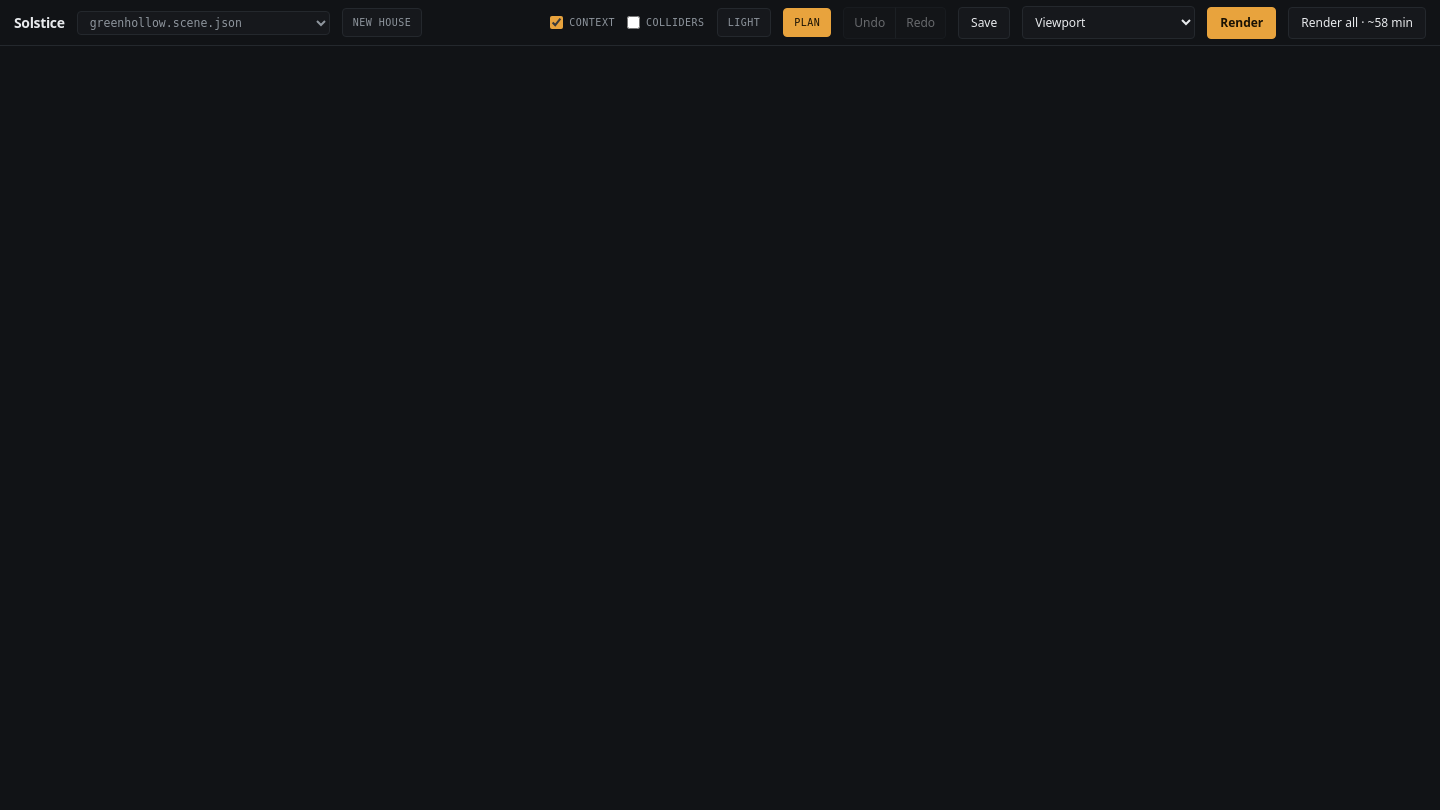
it: New house › keeps the dialog open with the reason, through the UI
The width and height of the screenshot is (1440, 810).
Click the button "New house": click(382, 22) x1=342 y1=8 x2=422 y2=37
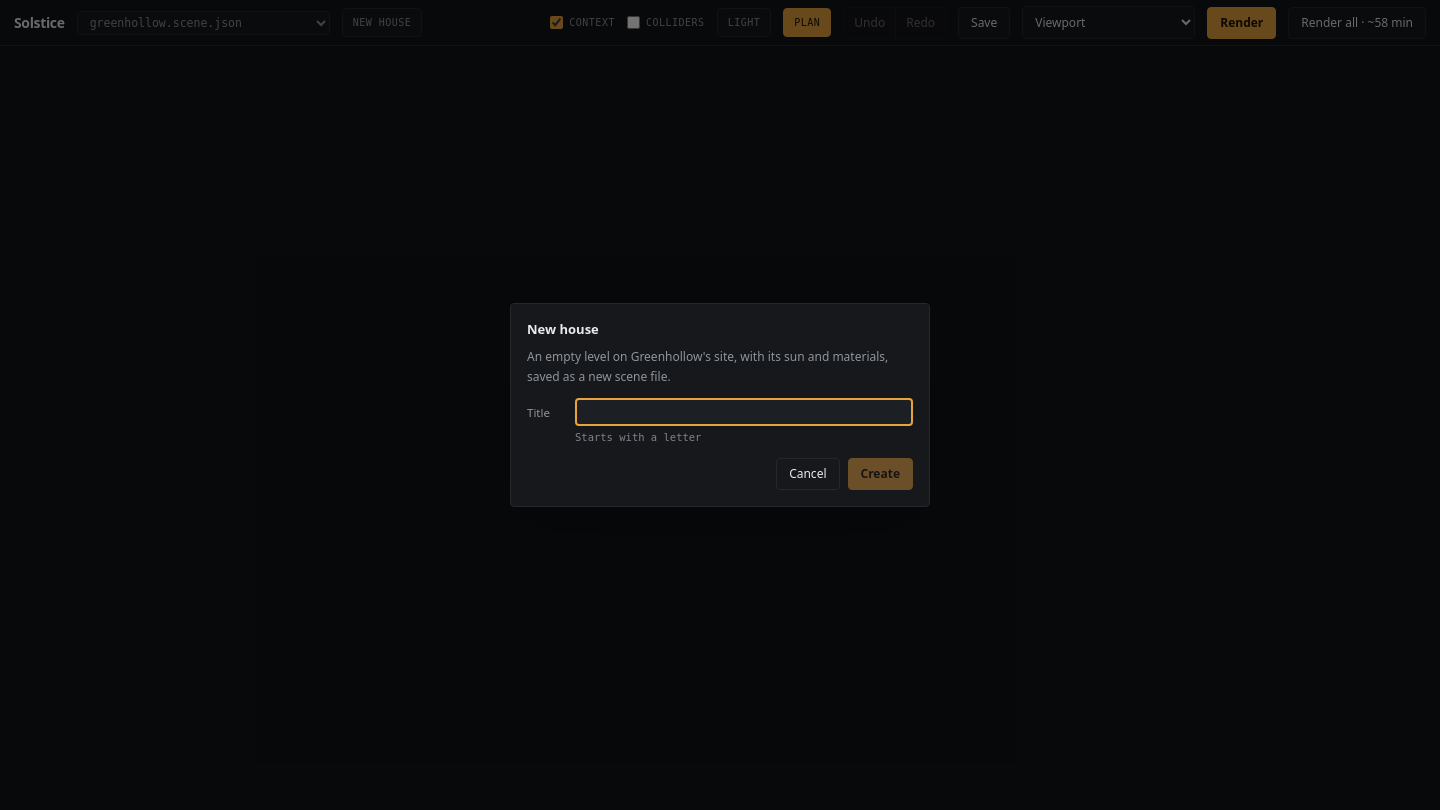
In the field labelled "Title": (744, 412) x1=575 y1=398 x2=913 y2=426, type "Test Cottage"
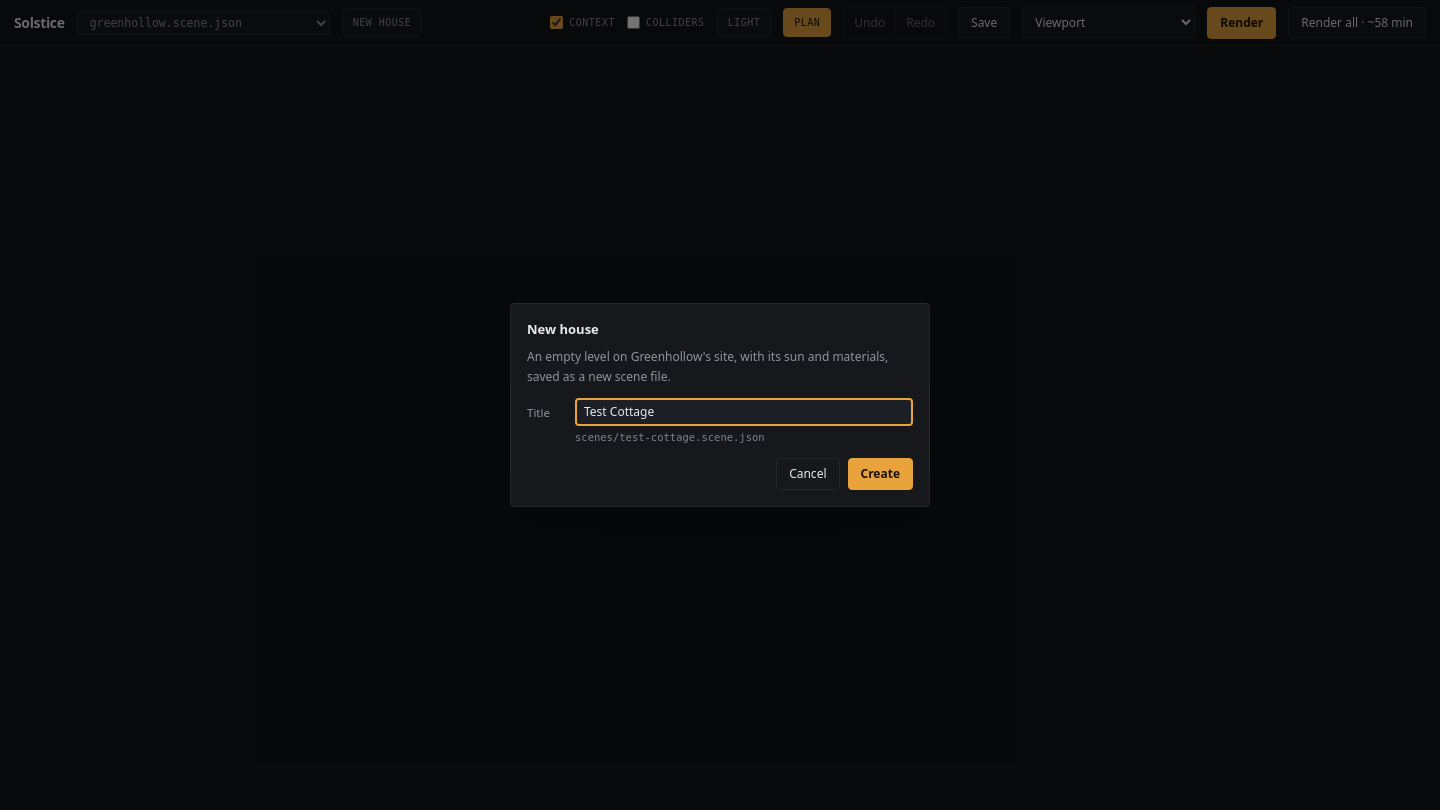
Expected: the text "scenes/test-cottage.scene.json" is shown, x1=575 y1=431 x2=765 y2=443
Click the button "Create": click(880, 474) x1=848 y1=458 x2=913 y2=490
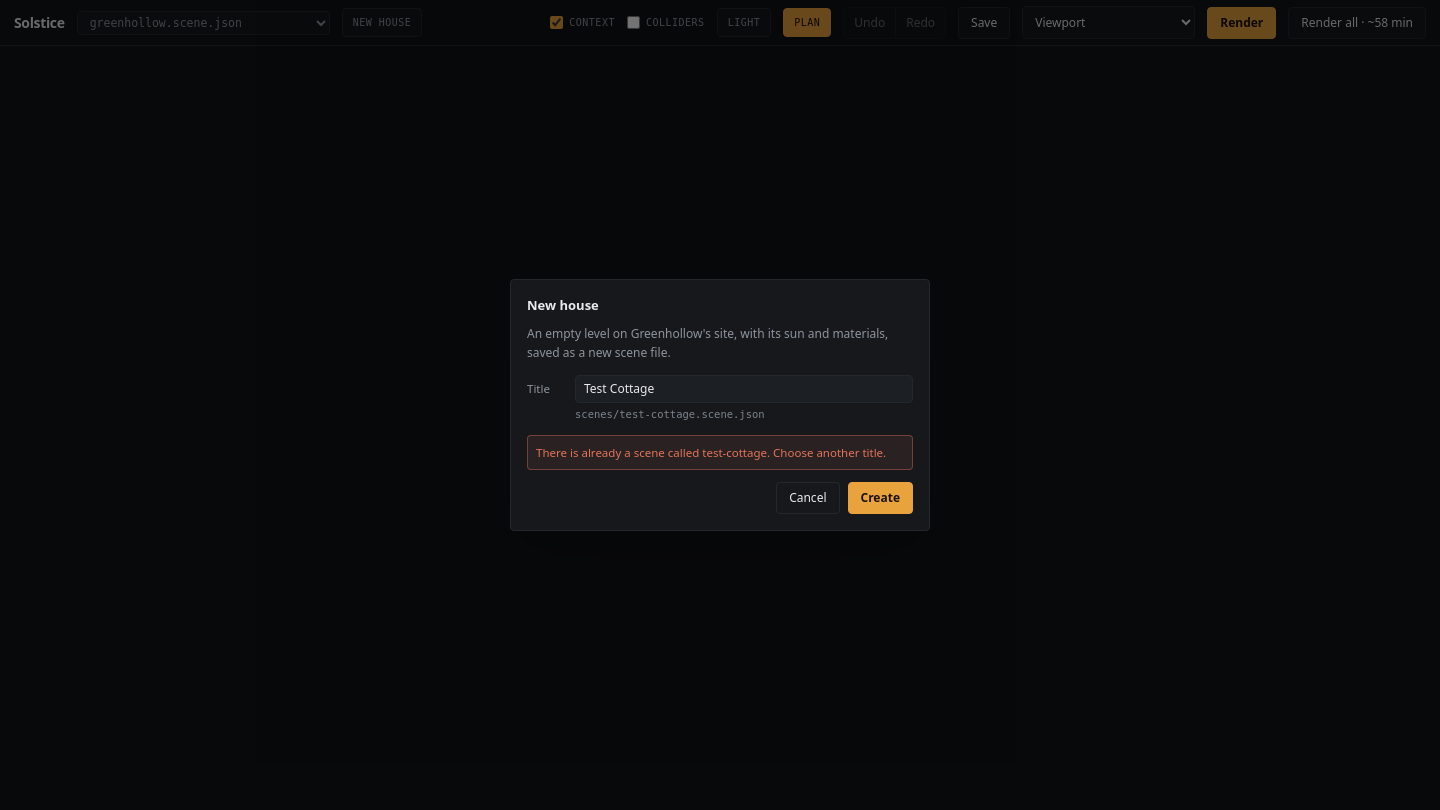
Expected: the message shows "Choose another title", x1=536 y1=444 x2=886 y2=460
